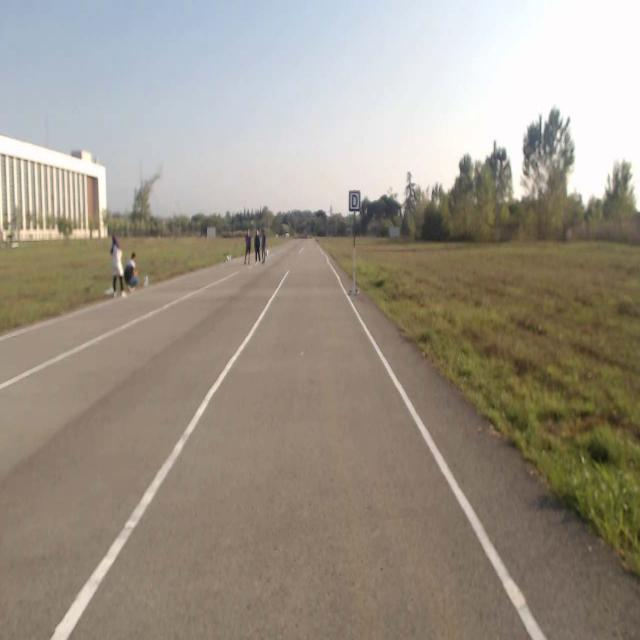durak: (348, 188, 362, 216)
